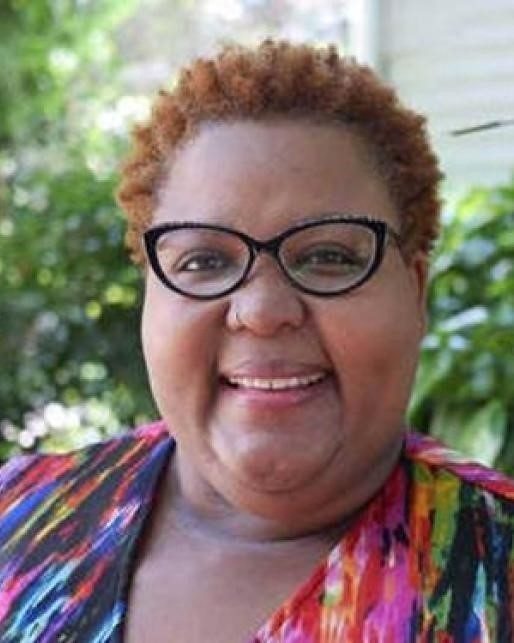face_no_mask: (129, 74, 434, 505)
